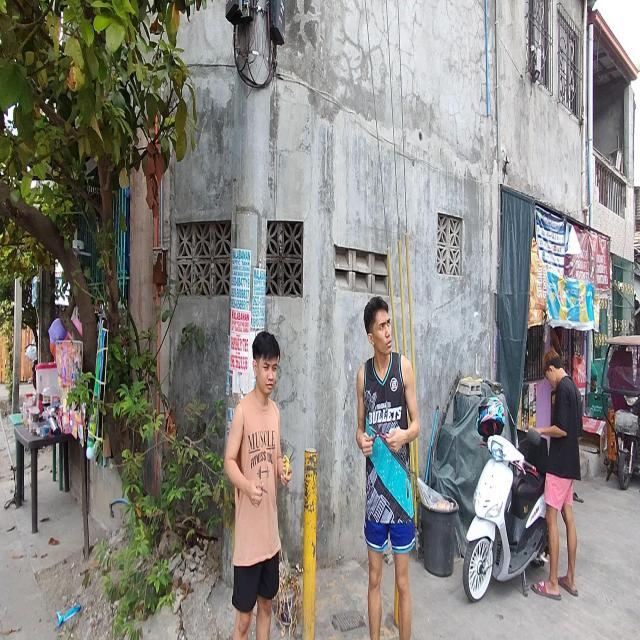scissor: (282, 448, 296, 478), (368, 425, 388, 446)
